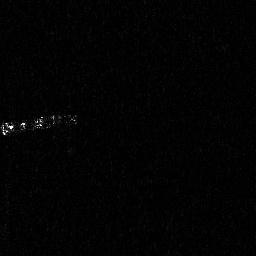ship: (1, 110, 78, 139)
